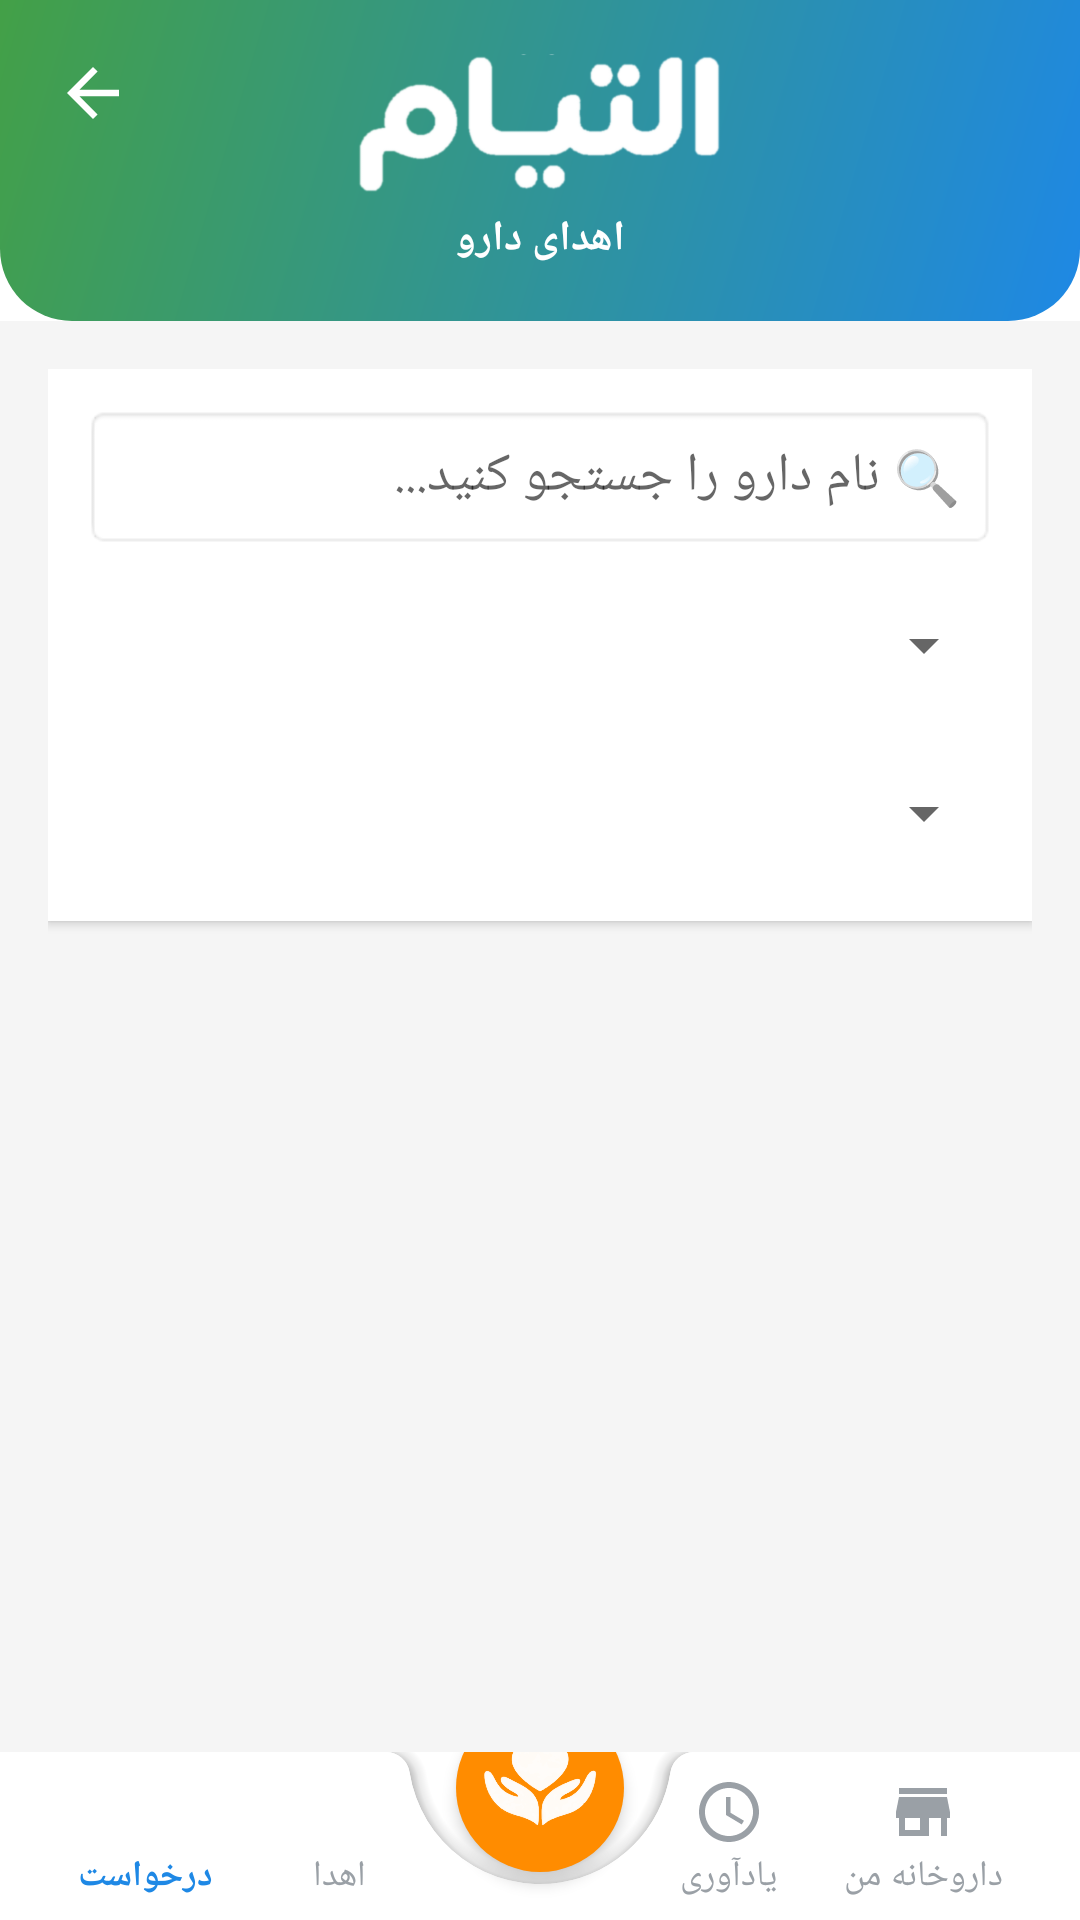

Where to tap for icons on this 1080x1920 app screen, as (x,y):
بازگشت: (93,93)
